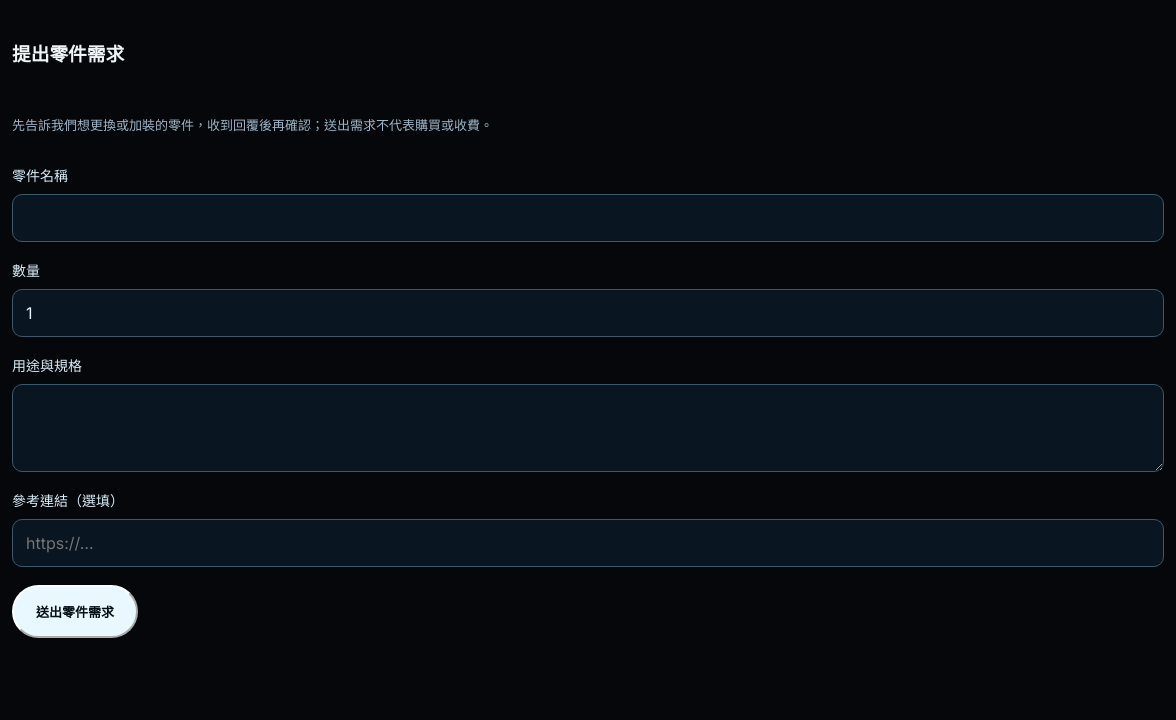
keeps the draft but prevents submission when the ticket has already entered acceptance
In the field labelled "零件名稱": [588, 218] box [12, 194, 1164, 242], type "SSD"
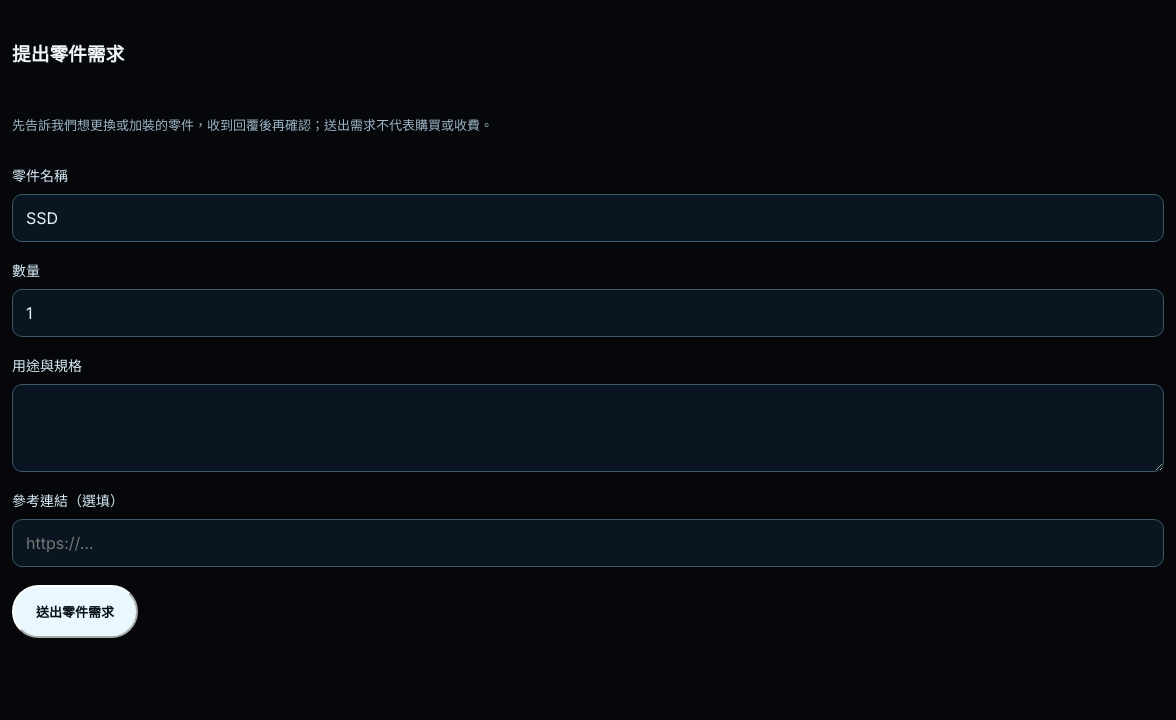
In the text box labelled "用途與規格": [588, 428] box [12, 384, 1164, 472], type "升級"
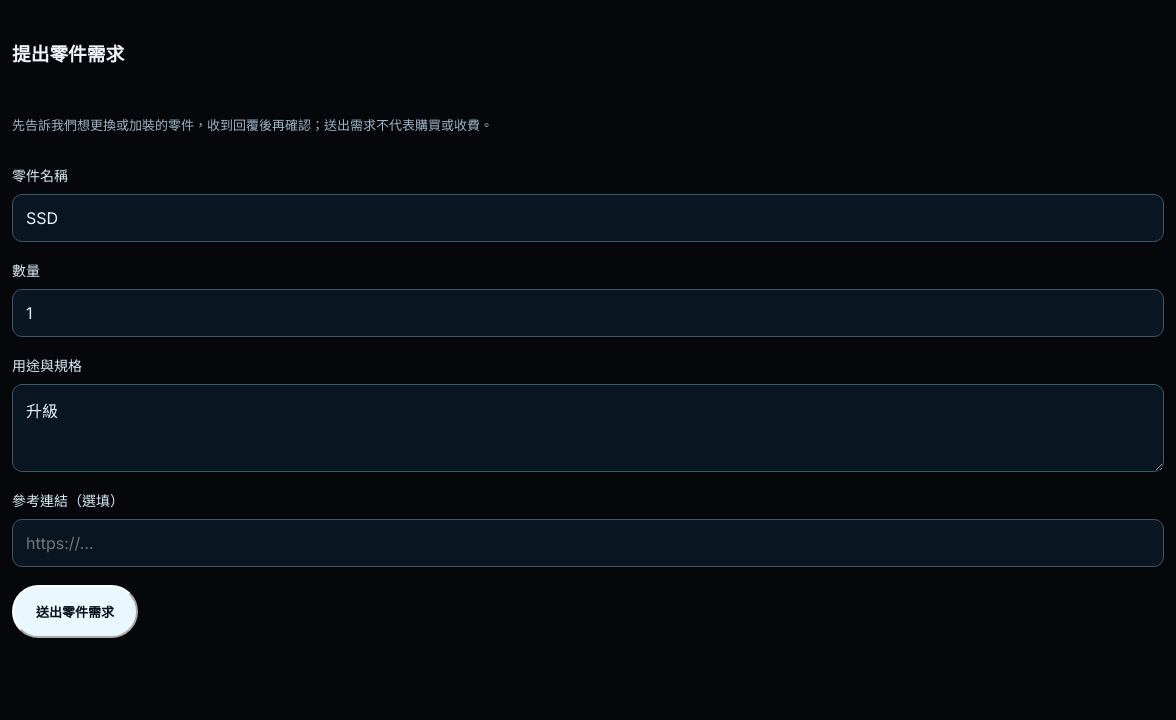
Click the button "送出零件需求": [75, 612] box [12, 585, 138, 638]
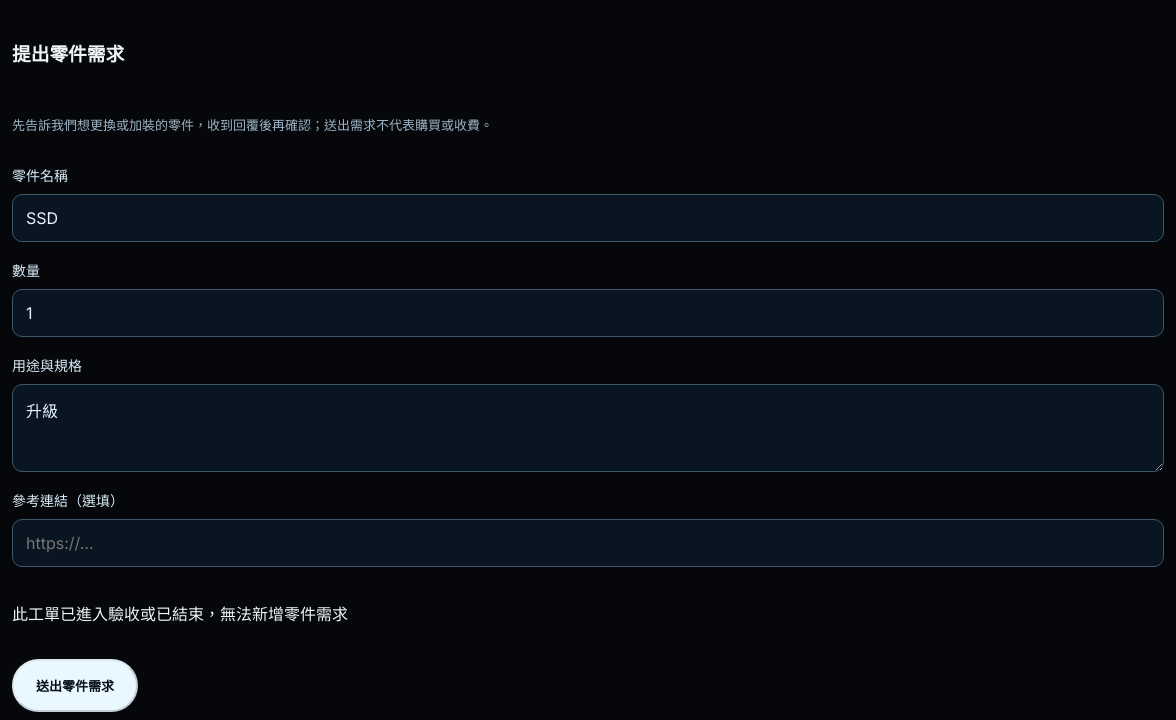
Result: the message "此工單已進入驗收或已結束，無法新增零件需求" is shown at [12, 604, 348, 624]
Result: the button "送出零件需求" is disabled at [12, 659, 138, 712]
